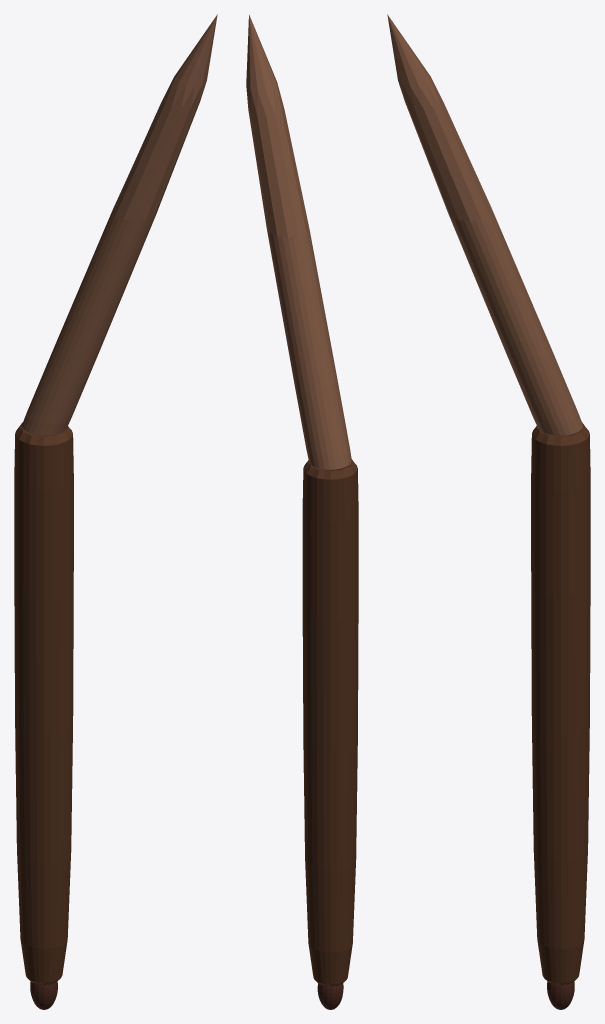
File: Wand 96.glb
The picture shows the model from 3 angles, left to right: view 1: azimuth 90°, elevation 25°; view 2: azimuth 210°, elevation 25°; view 3: azimuth 270°, elevation 25°; orthographic projection. The views are drawn at different scales.
Visible parts, largest first — view 1: GeneratedWand; view 2: GeneratedWand; view 3: GeneratedWand.
Part boxes in pixels (x1=…): GeneratedWand: x1=14, y1=14, x2=217, y2=1009; GeneratedWand: x1=246, y1=14, x2=358, y2=1009; GeneratedWand: x1=387, y1=14, x2=590, y2=1009.
Size of the model in its own units: 0.0273 by 0.5028 by 0.0931.
